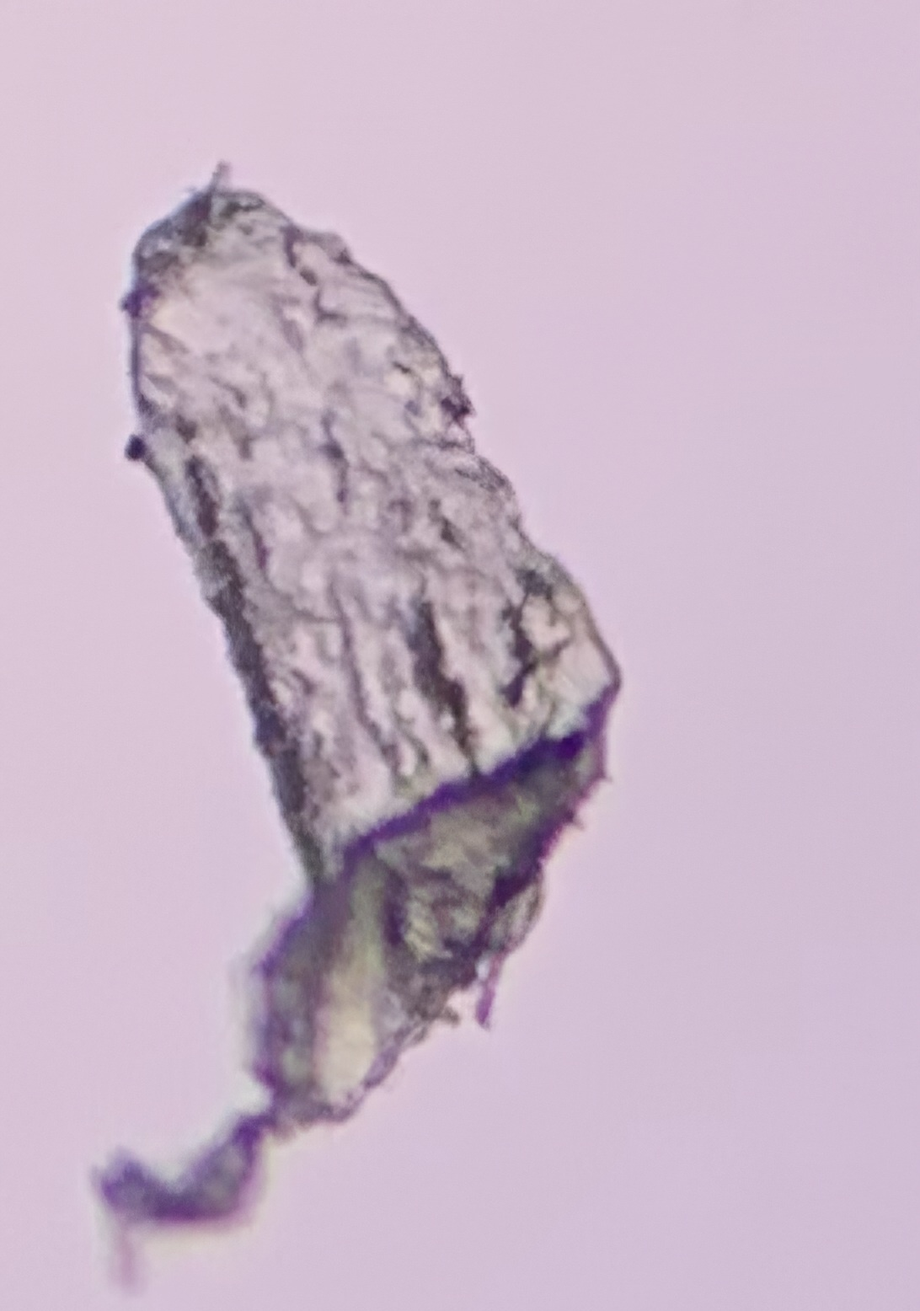microplastic: (86, 163, 624, 1301)
